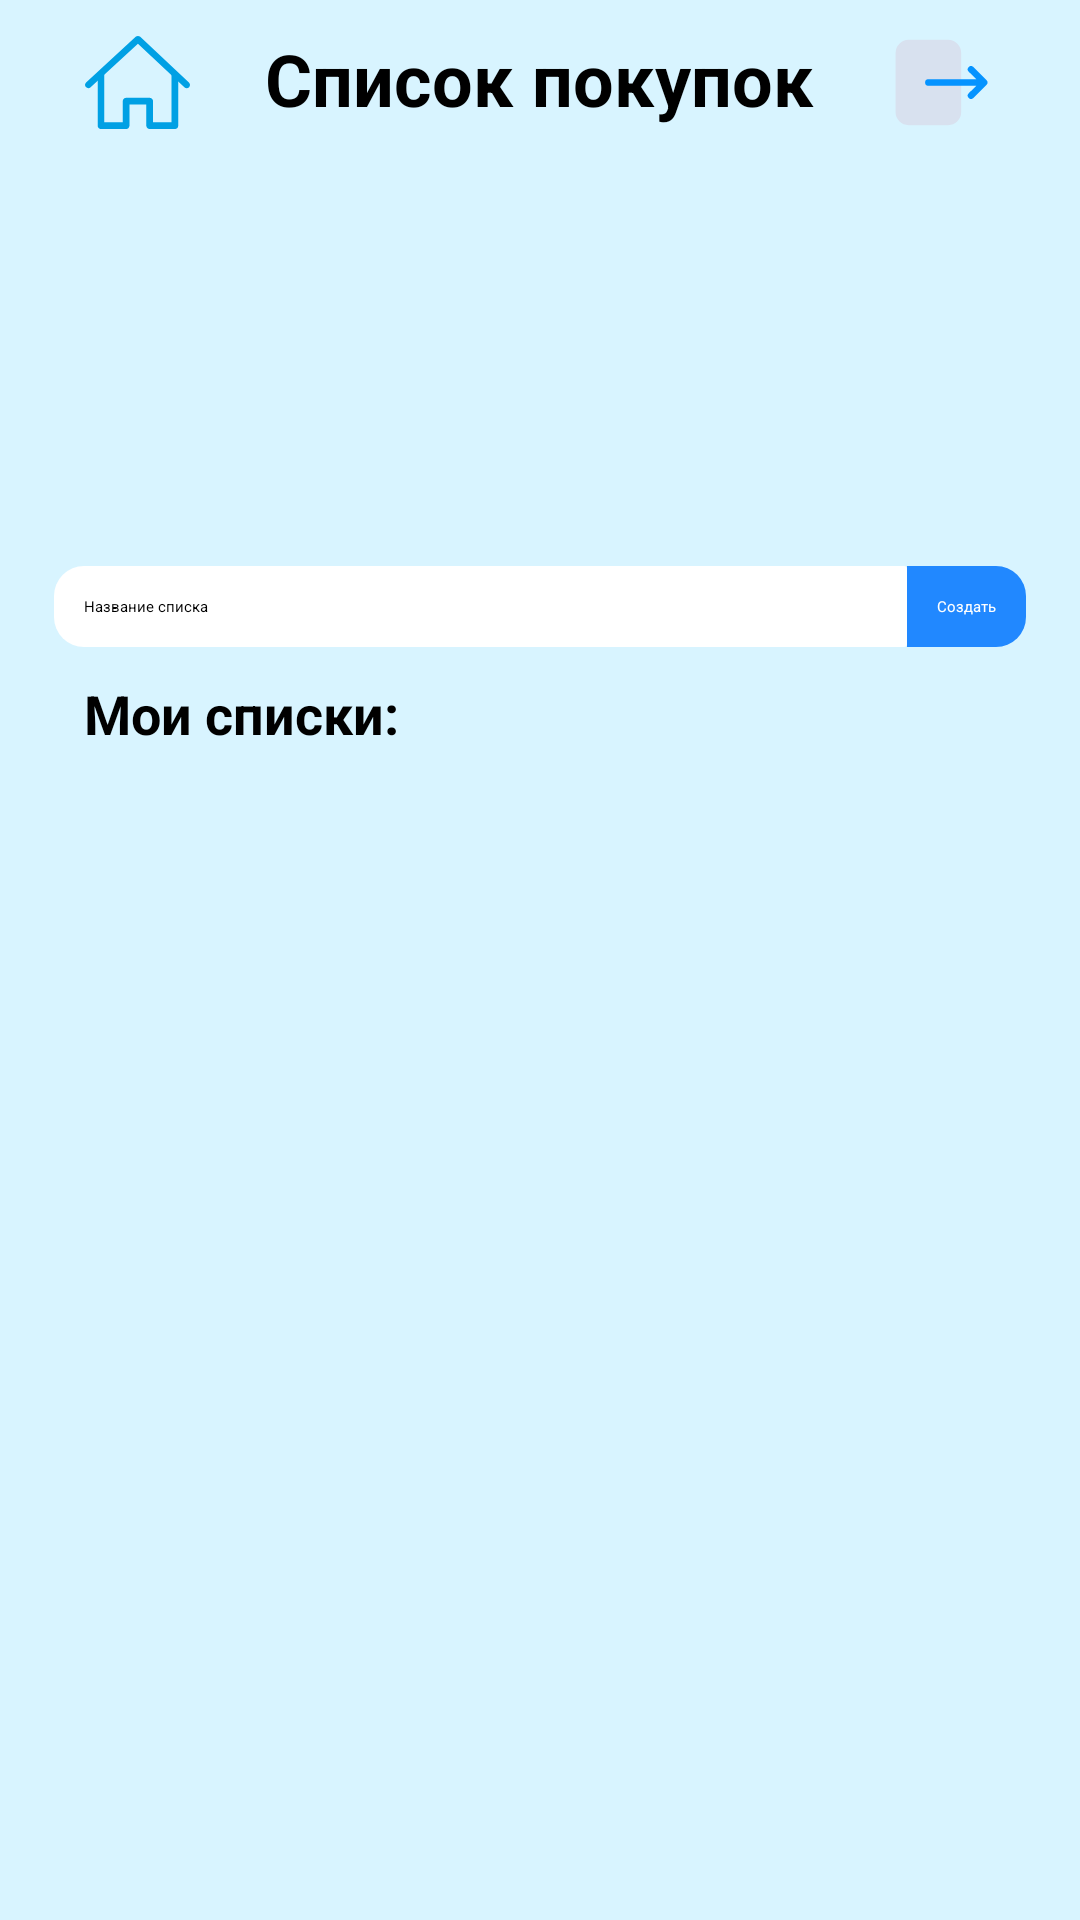

Where to tap for icons on this 1080px x 1920px app screen, as point (x, y):
exit: point (942, 82)
home: point (137, 82)
